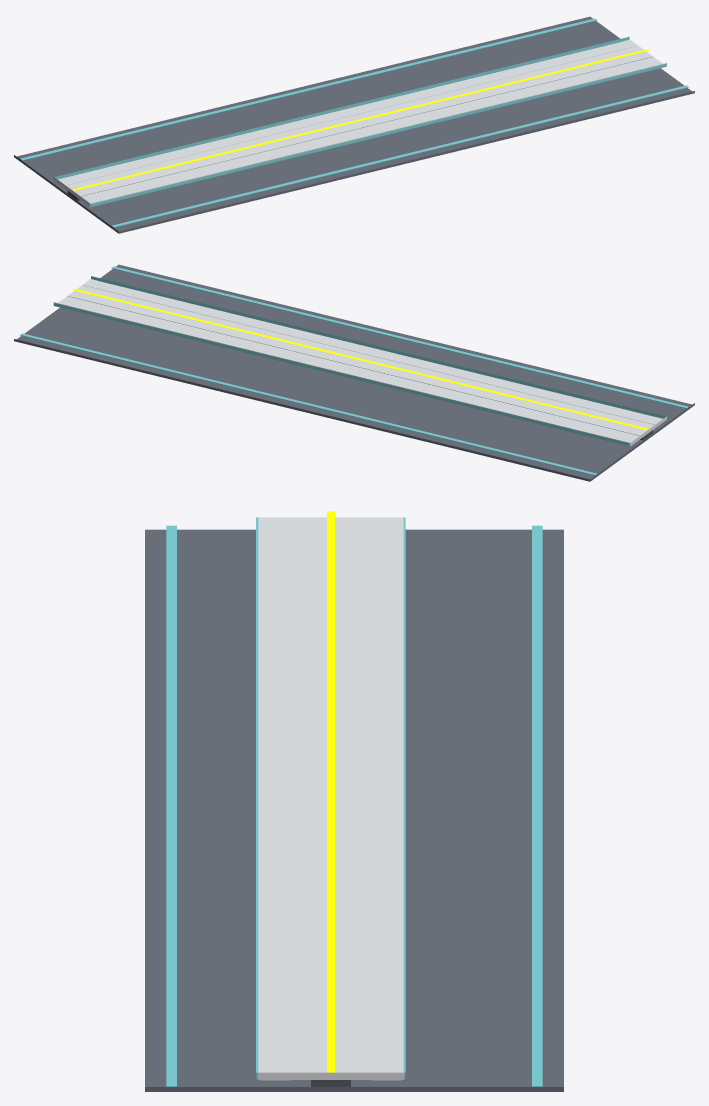
Rendered from ext_maglev_guideway_01.glb.
3 views of the same model, one above another, from view 1: azimuth 30°, elevation 25°; view 2: azimuth 150°, elevation 25°; view 3: azimuth 270°, elevation 25° (orthographic). The views are drawn at different scales.
Parts seen in each view (by area): view 1: Bed, Flange, Stator_Guide, Side_Lines, Guide_Glow, Web, Stator_Lev; view 2: Bed, Flange, Stator_Guide, Side_Lines, Guide_Glow, Web, Stator_Lev; view 3: Bed, Flange, Side_Lines, Guide_Glow, Stator_Guide.
Part boxes in pixels (left/top/right/bottom): Bed: left=14, top=16, right=694, bottom=233; Flange: left=53, top=40, right=666, bottom=206; Stator_Guide: left=54, top=37, right=666, bottom=206; Side_Lines: left=19, top=18, right=688, bottom=227; Guide_Glow: left=72, top=49, right=648, bottom=190; Web: left=67, top=57, right=651, bottom=200; Stator_Lev: left=66, top=46, right=636, bottom=185; Bed: left=14, top=264, right=694, bottom=481; Flange: left=53, top=279, right=666, bottom=446; Stator_Guide: left=54, top=276, right=666, bottom=446; Side_Lines: left=20, top=266, right=689, bottom=475; Guide_Glow: left=72, top=288, right=648, bottom=430; Web: left=68, top=296, right=652, bottom=440; Stator_Lev: left=83, top=285, right=654, bottom=424; Bed: left=145, top=529, right=563, bottom=1091; Flange: left=257, top=517, right=404, bottom=1079; Side_Lines: left=166, top=525, right=542, bottom=1086; Guide_Glow: left=327, top=511, right=334, bottom=1072; Stator_Guide: left=256, top=517, right=405, bottom=1078.
Bounding box in the file's own units: 9.99 × 0.163 × 3.15.
